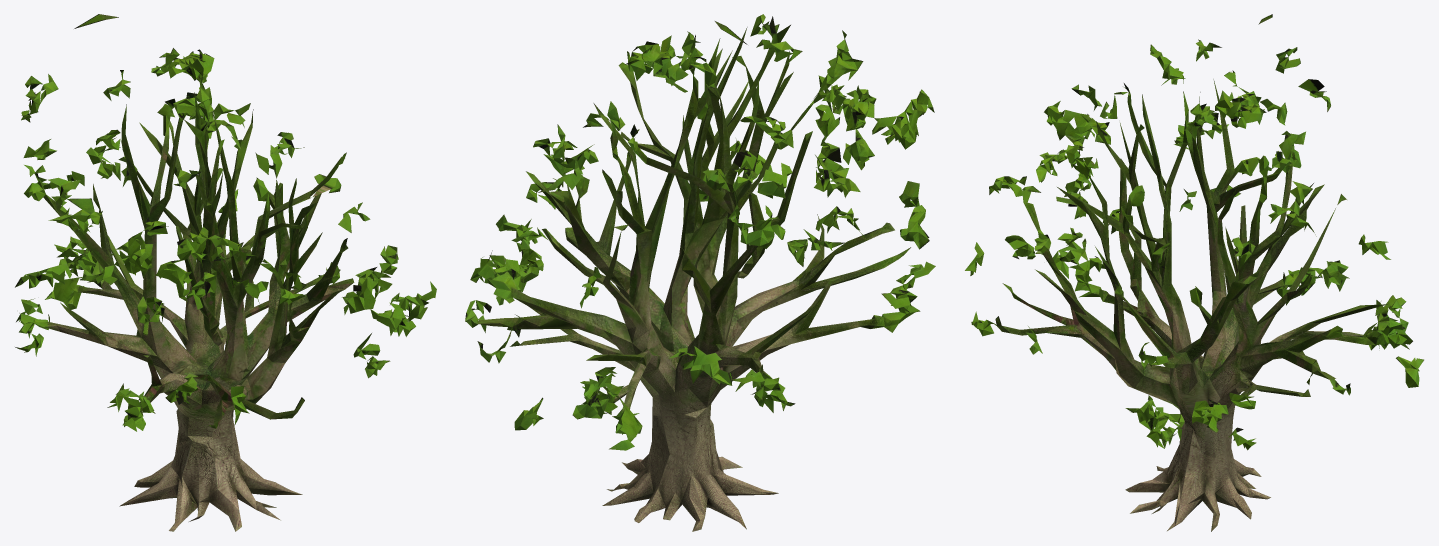
The model's file is mangueira.glb.
3 views of the same model, side by side, from view 1: azimuth 30°, elevation 25°; view 2: azimuth 150°, elevation 25°; view 3: azimuth 270°, elevation 25° (orthographic). The views are drawn at different scales.
Parts seen in each view (by area): view 1: Mesh_0; view 2: Mesh_0; view 3: Mesh_0.
Boxes of the visible parts, bbox=[...] form: Mesh_0: bbox=[15, 14, 436, 531]; Mesh_0: bbox=[465, 14, 935, 531]; Mesh_0: bbox=[965, 14, 1423, 531].
Bounding box in the file's own units: 1.41 × 1.79 × 1.65.
1 material, 1 textured.
